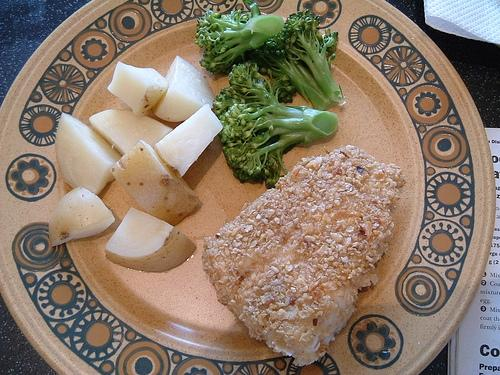broccoli: (214, 60, 340, 190), (244, 9, 346, 111), (194, 3, 284, 74)
potato: (110, 140, 200, 226), (104, 206, 196, 272), (55, 112, 123, 195), (154, 104, 223, 178), (150, 56, 216, 122), (90, 108, 174, 156), (48, 187, 115, 247), (107, 61, 169, 116)
